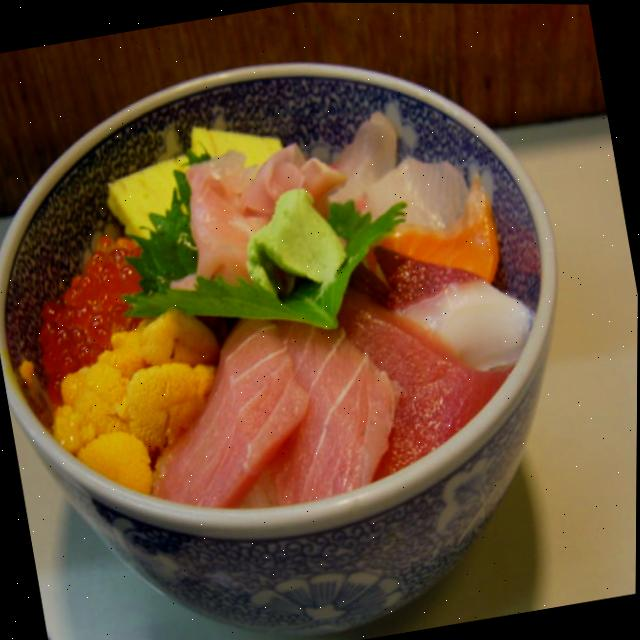刺身生食: (0, 21, 616, 640)
